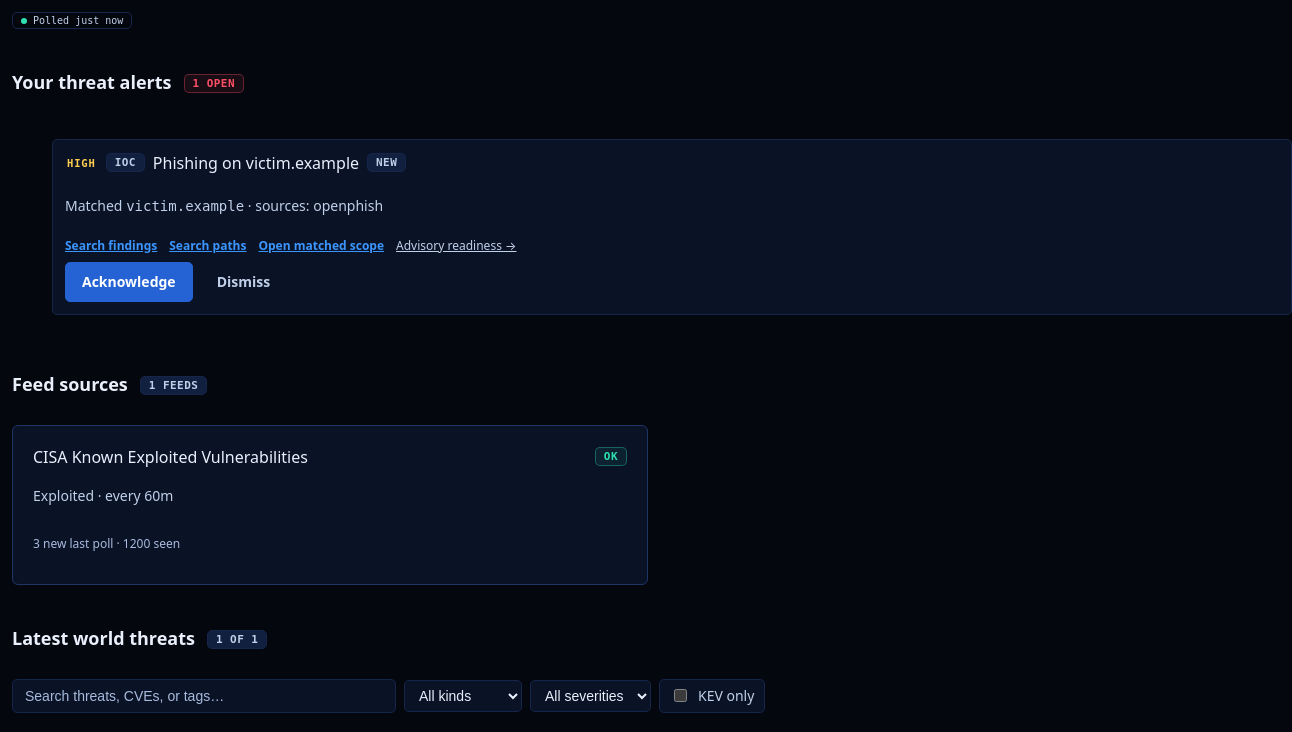
Scenario: ThreatFeedWorkbench › renders feeds and catalog, and supports reversible alert triage
Check: the text "CISA Known Exploited Vulnerabilities" is shown, box [33, 446, 308, 468]
Check: the text "Phishing on victim.example" is shown, box [153, 152, 359, 174]
Click the button "Acknowledge": click(129, 282) [65, 262, 193, 302]
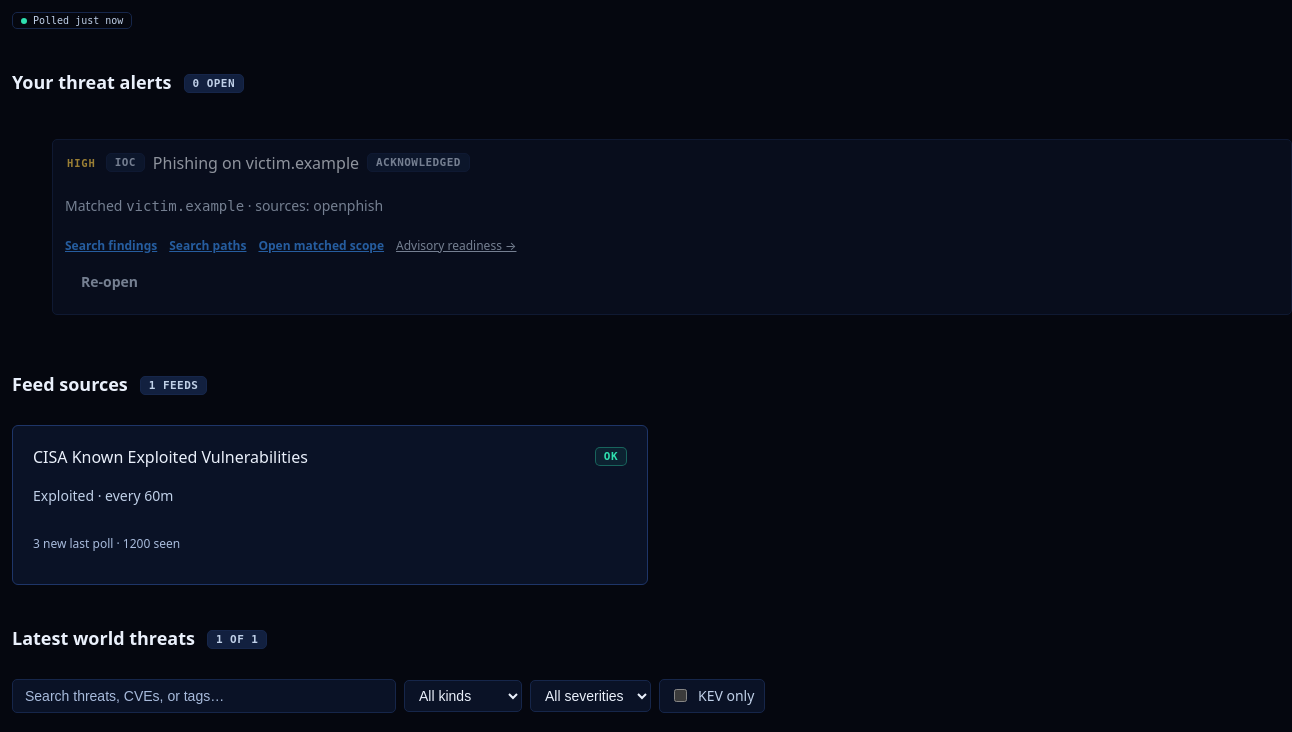
Check: the message named "Open threat alert count: 0" is shown, box [184, 70, 244, 93]
Click the button "Re-open": click(110, 282) [65, 262, 154, 302]
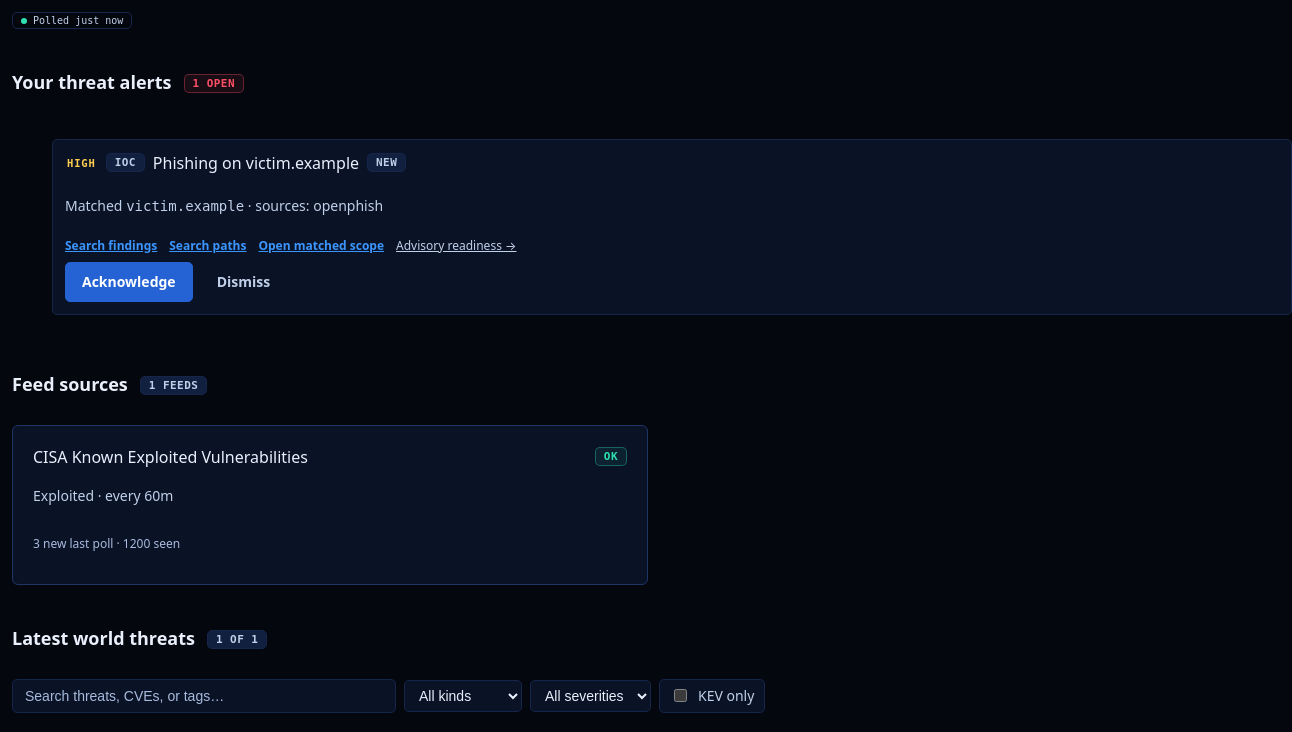
Check: the message named "Open threat alert count: 1" is shown, box [184, 70, 244, 93]
Click the button "Dismiss": click(243, 282) [201, 262, 286, 302]
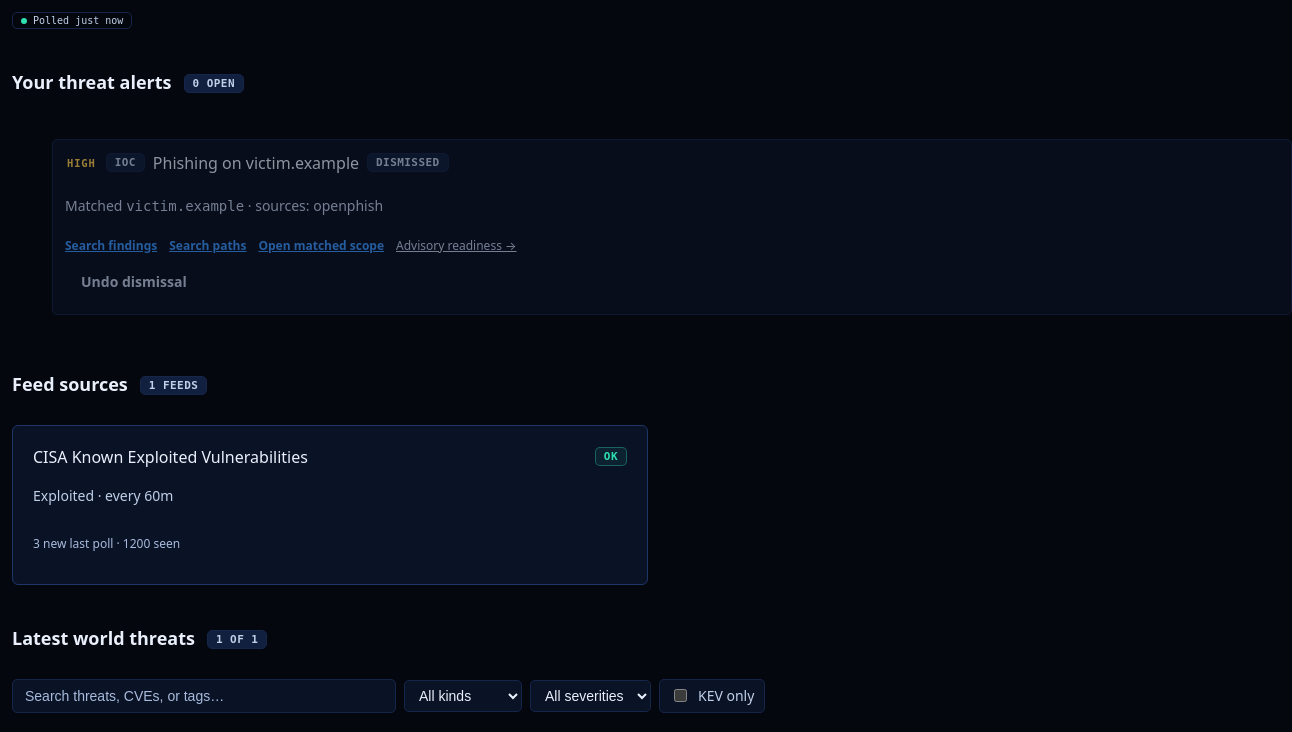
Check: the button "Undo dismissal" is shown
Click the button "Undo dismissal": click(134, 282) [65, 262, 203, 302]
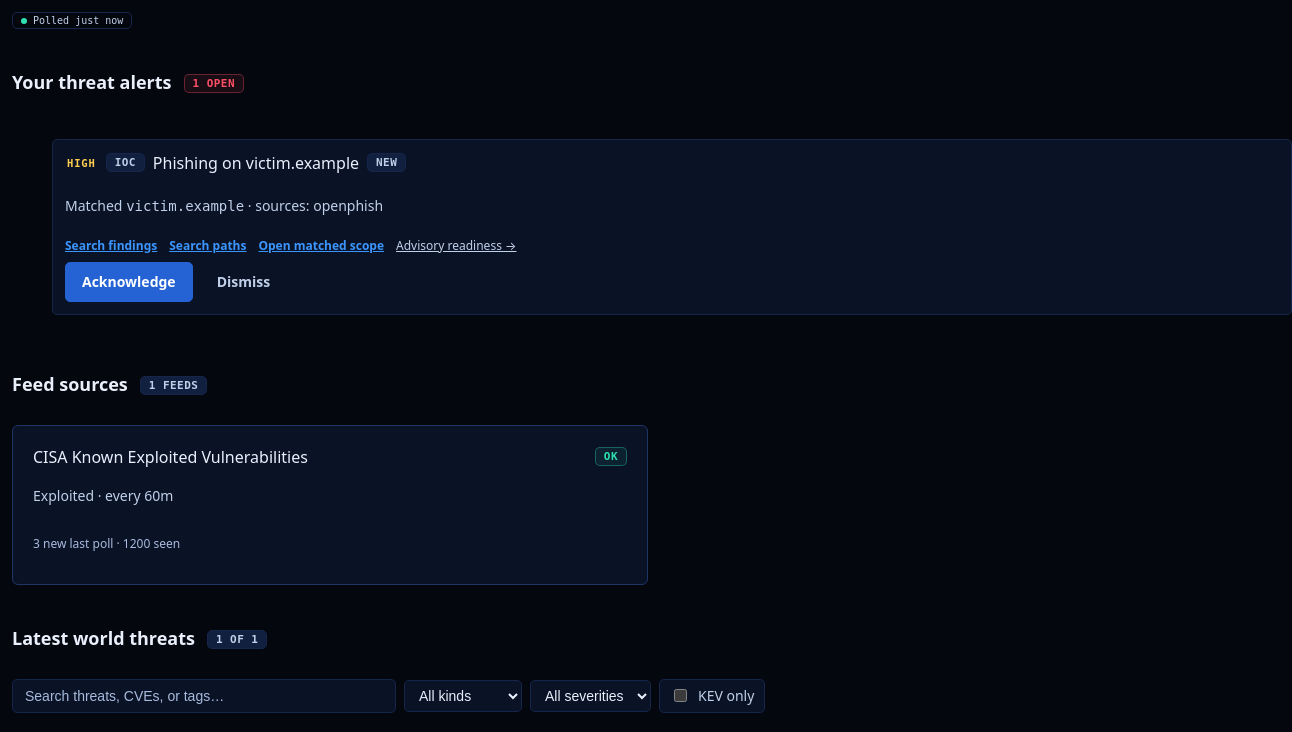
Check: the message named "Open threat alert count: 1" is shown, box [184, 70, 244, 93]
